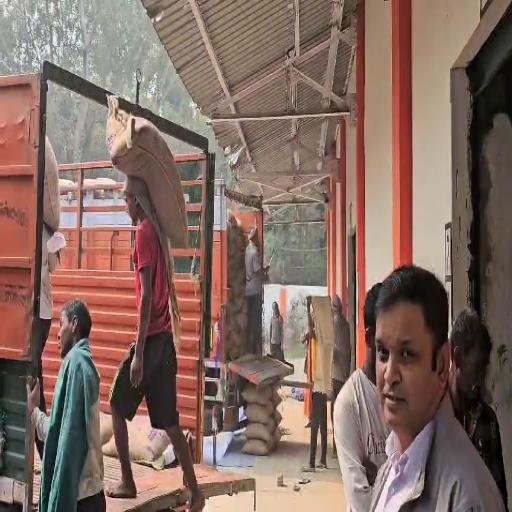bag: (104, 92, 192, 252)
